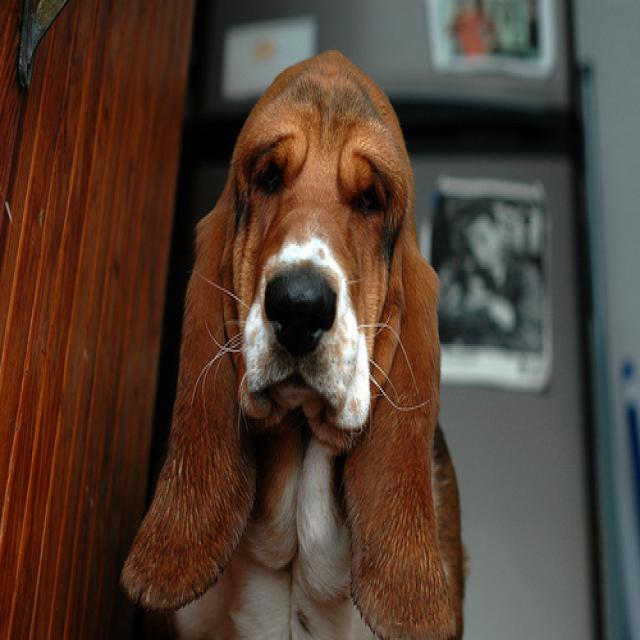dog-basset_hound: (113, 35, 476, 636)
